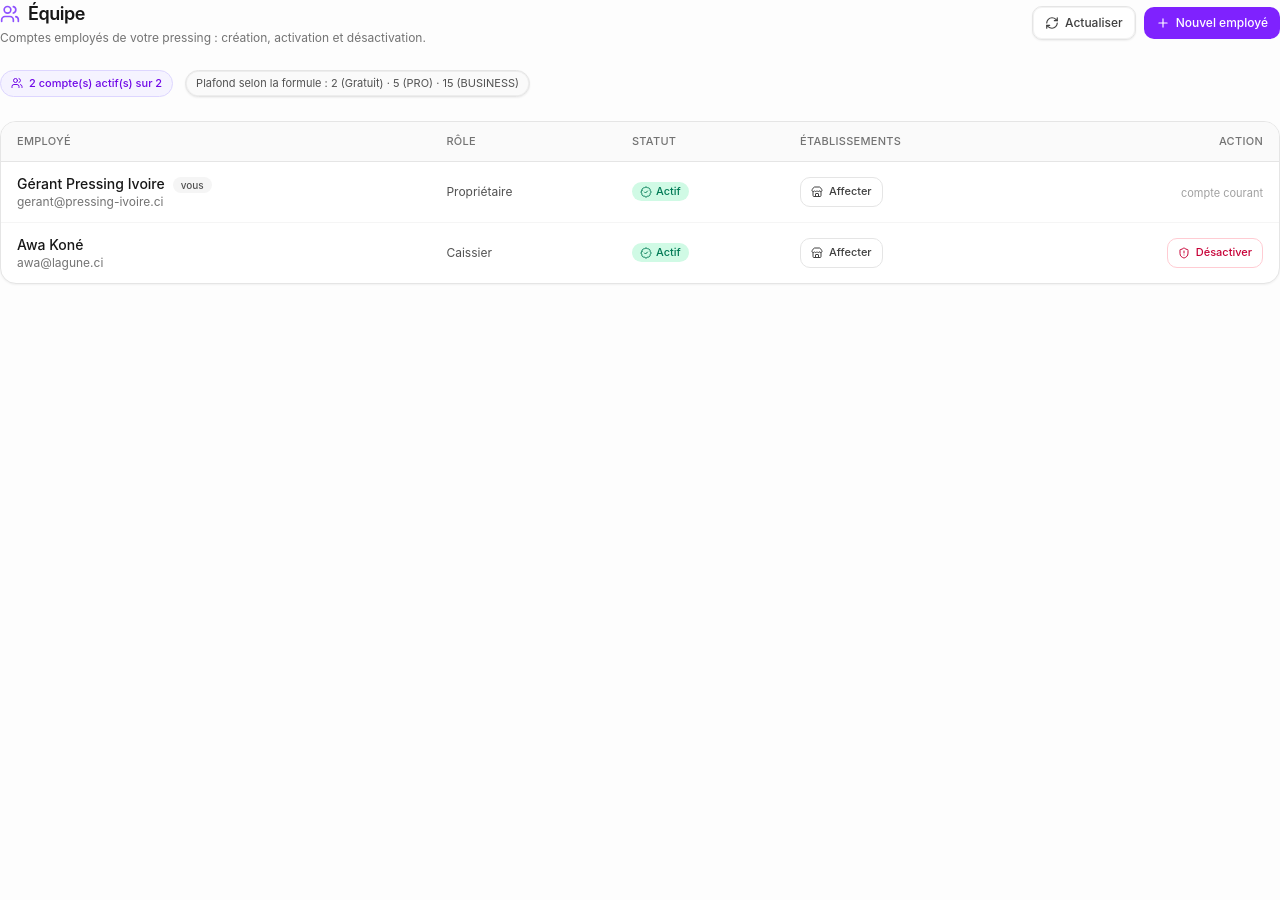
Test: TeamView › affiche le plafond de la formule quand la création est refusée (402)
The width and height of the screenshot is (1280, 900).
Expected: the text "Awa Koné" is shown, [17,236,83,253]
Click the button "Nouvel employé". click: coordinates (1212, 23)
box: [1144,7,1279,39]
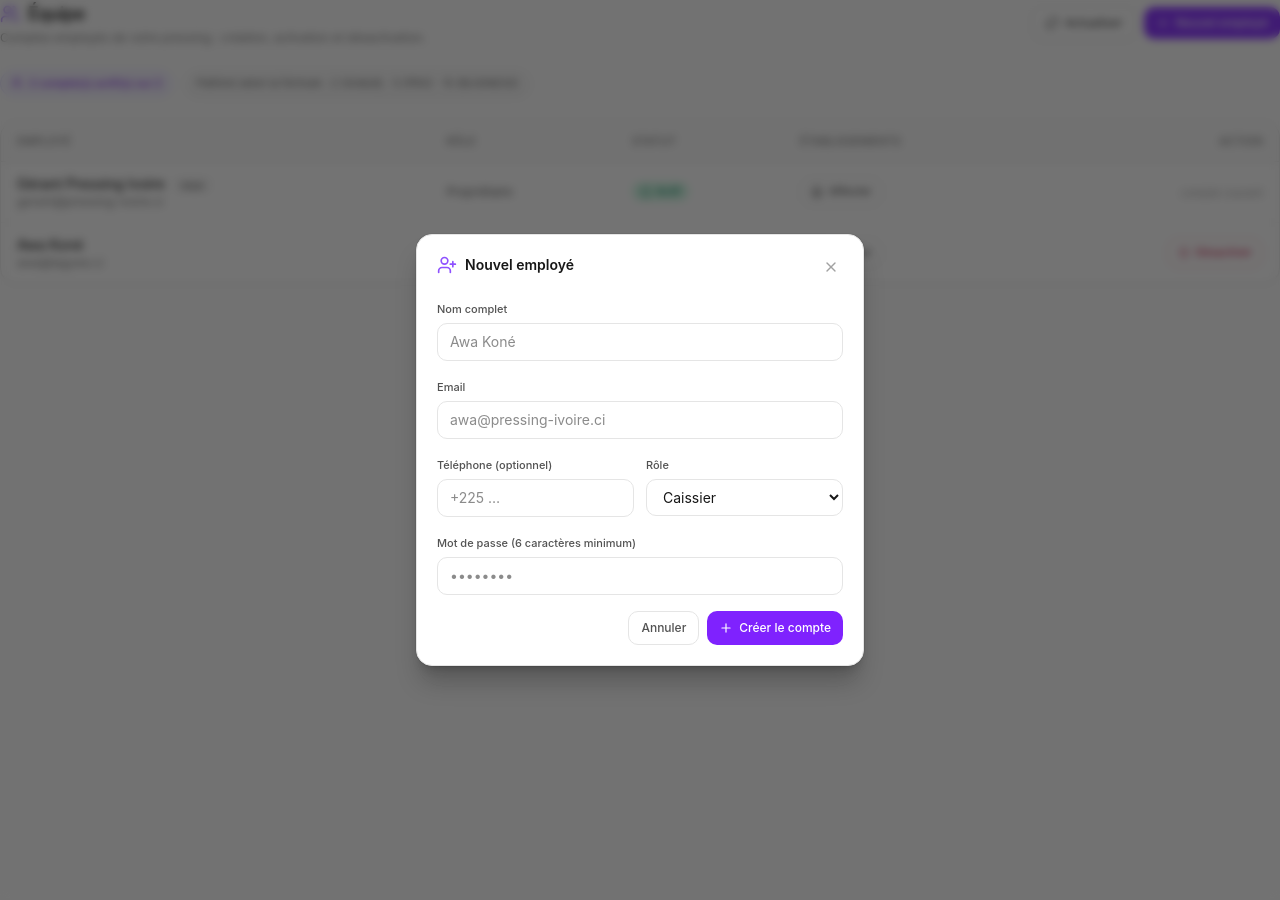
Type "Koffi Yao" into the field with placeholder "Awa Koné". click: coordinates (640, 342)
box: [437,323,843,361]
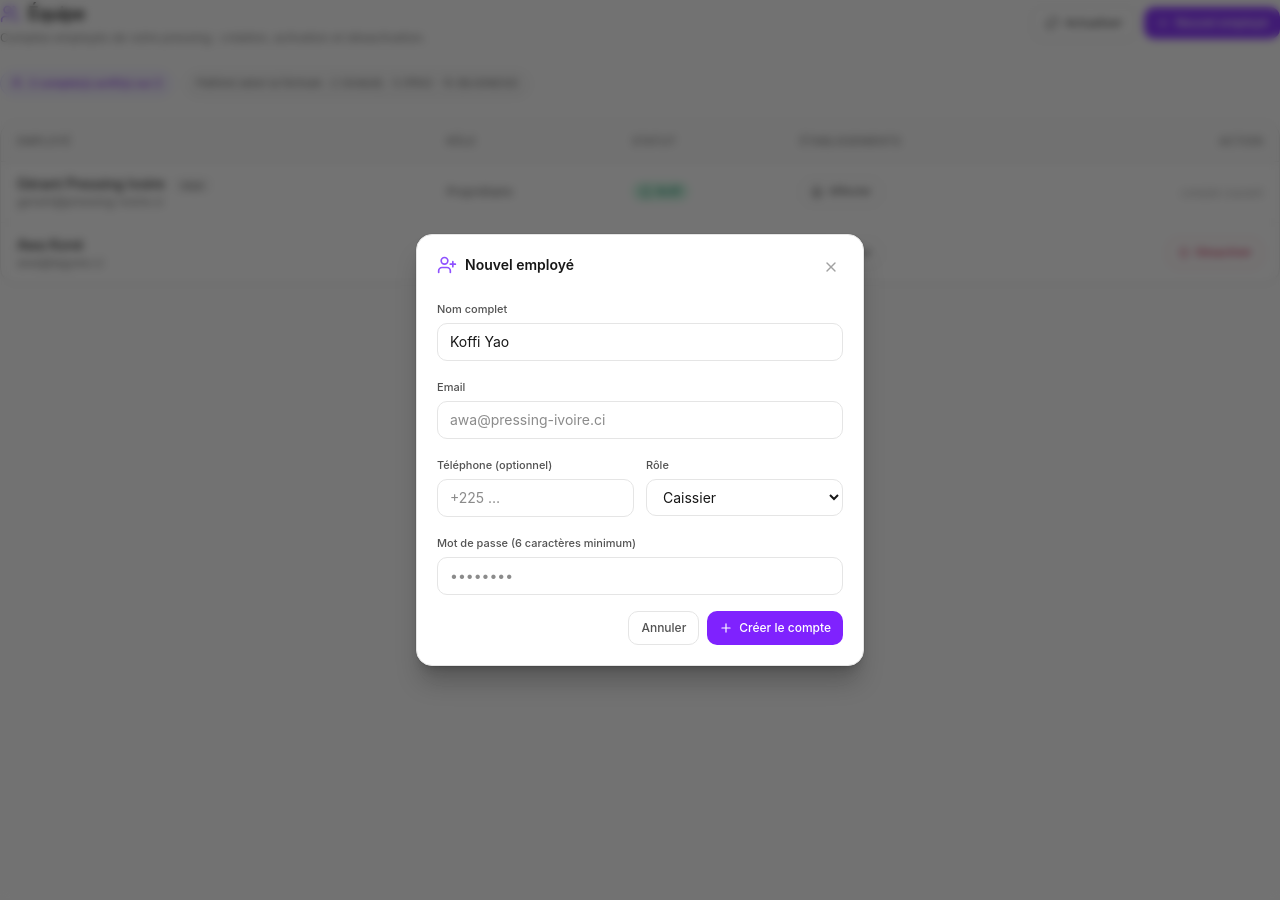
Type "koffi@pressing-ivoire.ci" into the field with placeholder "awa@pressing-ivoire.ci". click: coordinates (640, 420)
box: [437,401,843,439]
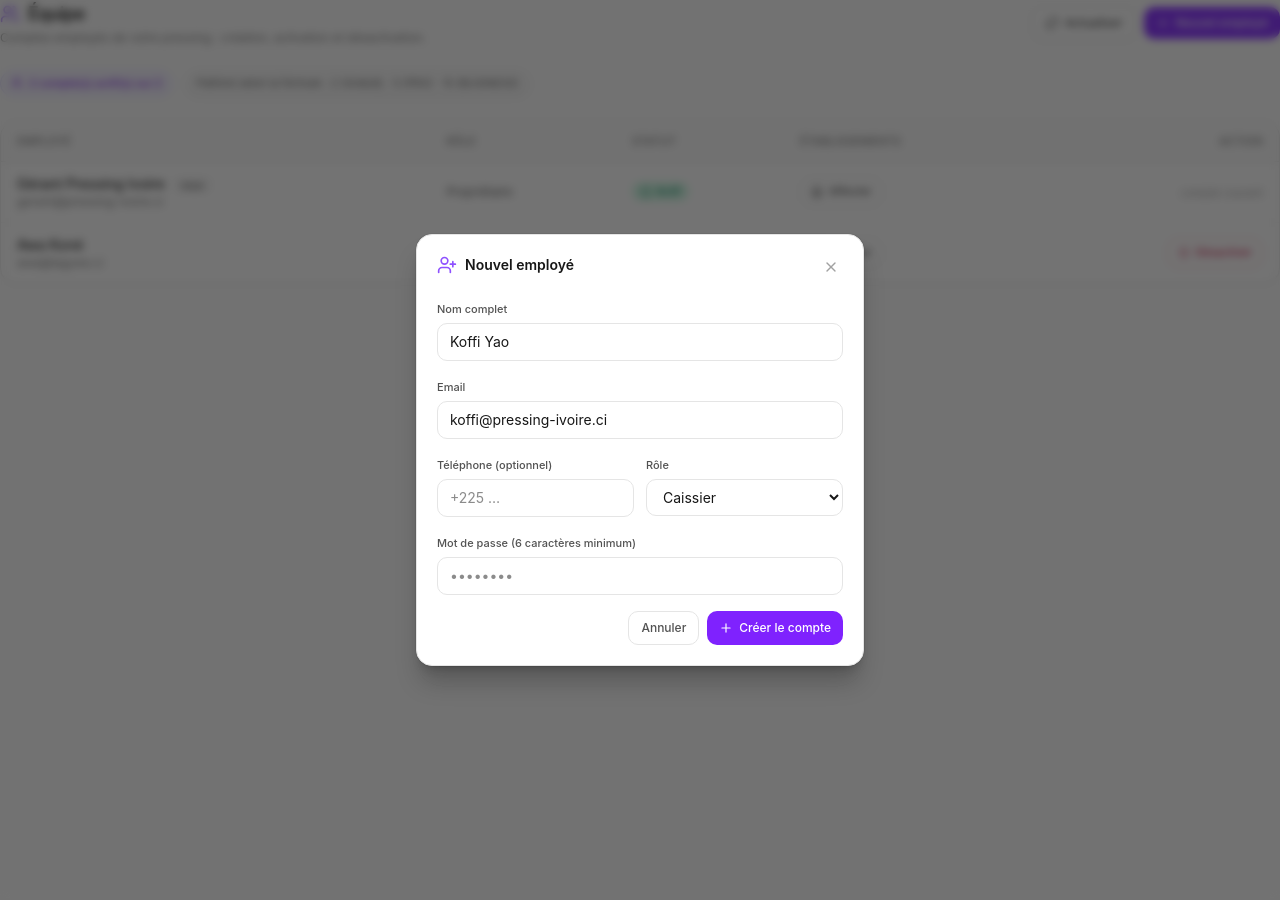
Type "motdepasse123" into the password field with placeholder "••••••••". click: coordinates (640, 576)
box: [437,557,843,595]
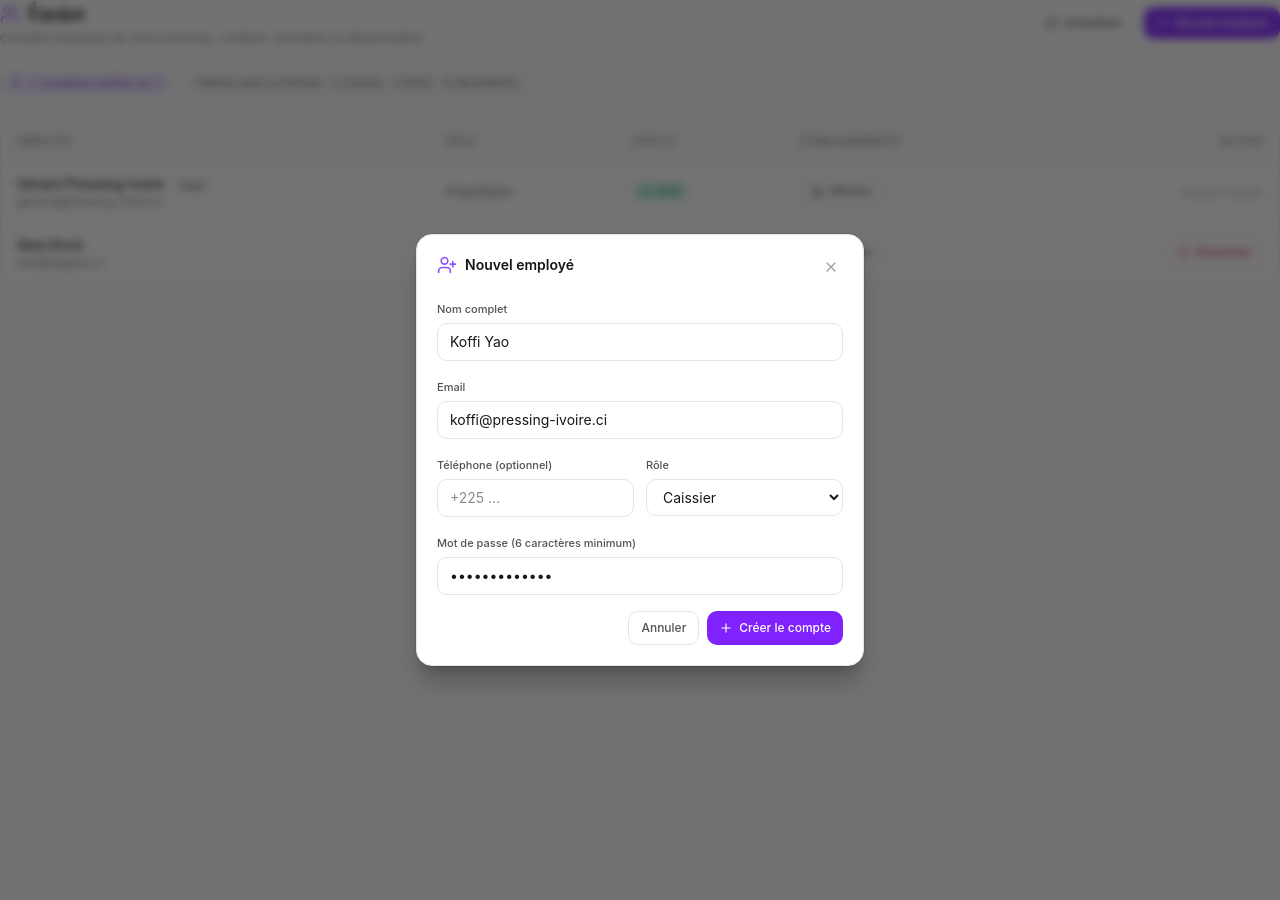
Click the button "Créer le compte". click: coordinates (775, 628)
box: [707,611,843,645]
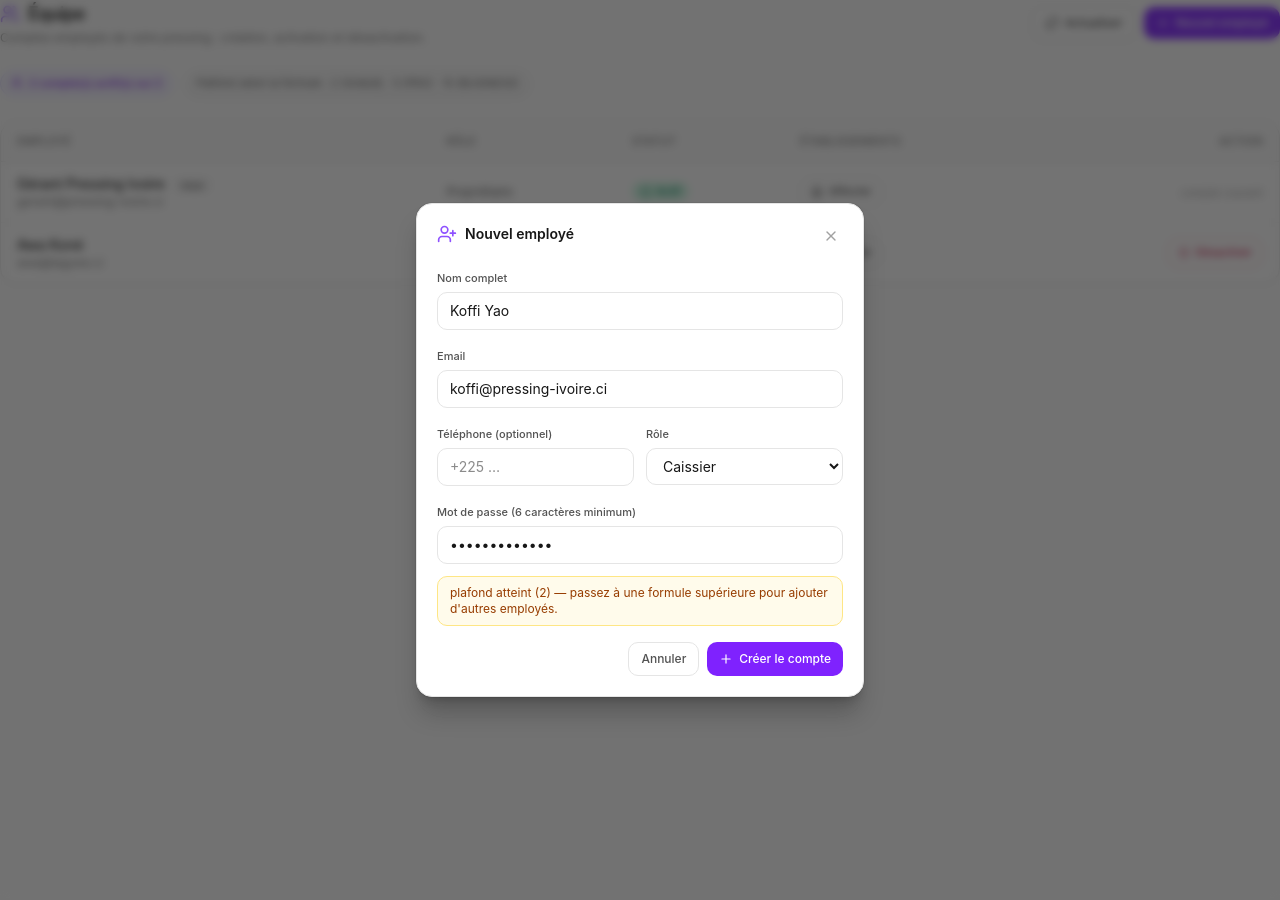
Result: the text "formule supérieure" is shown at [450,585,828,616]
